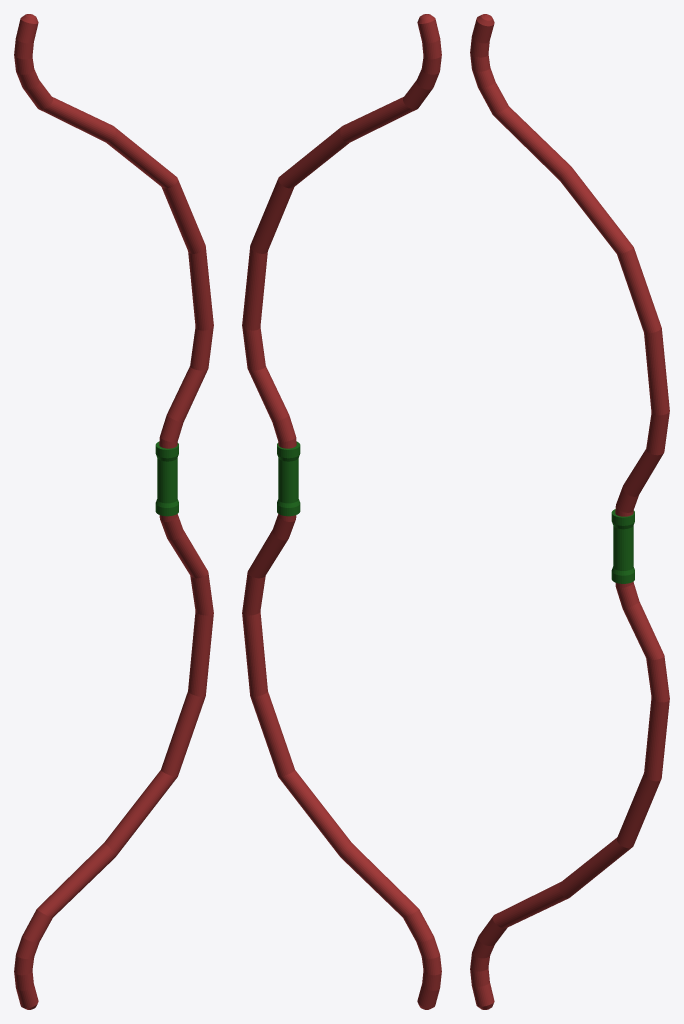
The model's file is bow.glb.
The picture shows the model from 3 angles, left to right: view 1: azimuth 30°, elevation 25°; view 2: azimuth 150°, elevation 25°; view 3: azimuth 330°, elevation 25°; orthographic projection.
Parts seen in each view (by area): view 1: Cylinder, Cylinder.001; view 2: Cylinder, Cylinder.001; view 3: Cylinder, Cylinder.001.
Boxes of the visible parts, box(x1,y1,x2,y2) form: Cylinder: box(14, 14, 213, 1009); Cylinder.001: box(155, 441, 178, 516); Cylinder: box(242, 14, 441, 1009); Cylinder.001: box(277, 441, 300, 516); Cylinder: box(470, 14, 669, 1009); Cylinder.001: box(611, 509, 634, 583).
Size of the model in its own units: 0.3088 by 1.49 by 0.0317.
